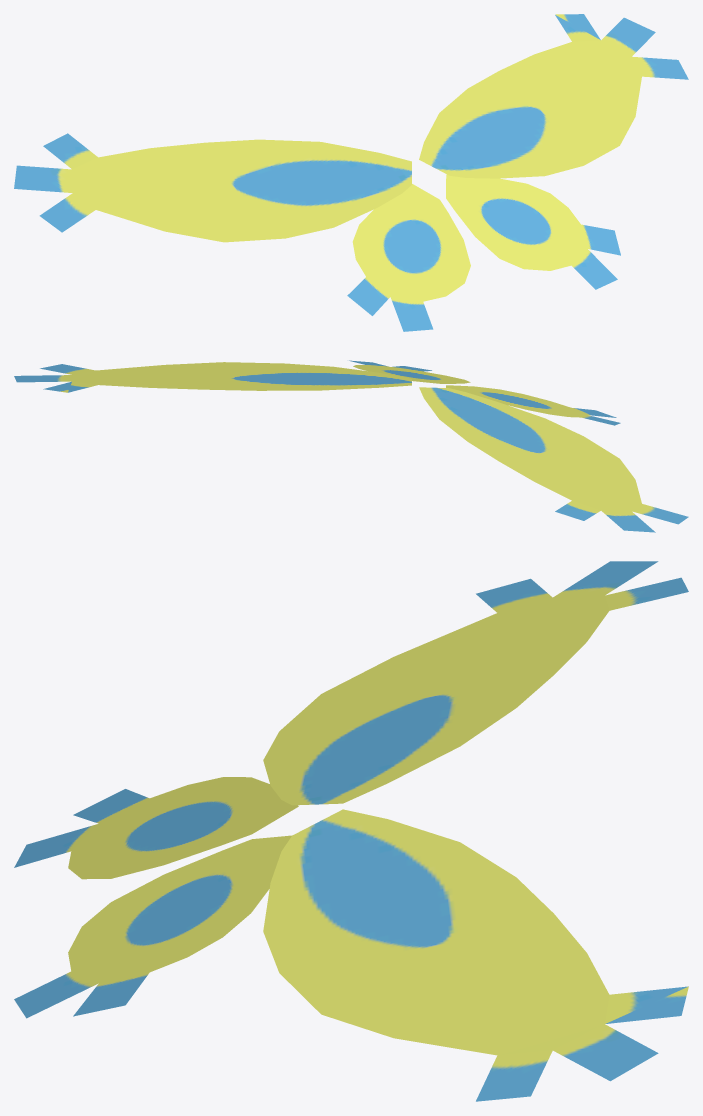
Rendered from BR_Mothim-Shiny01.obj.
3 renders of one model, top to bottom at view 1: azimuth 30°, elevation 25°; view 2: azimuth 150°, elevation 25°; view 3: azimuth 270°, elevation 25°, orthographic. The views are drawn at different scales.
Parts seen in each view (by area): view 1: gamale; view 2: gamale; view 3: gamale.
Part boxes in pixels (left/top/right/bottom): gamale: left=14, top=14, right=688, bottom=331; gamale: left=14, top=360, right=688, bottom=532; gamale: left=14, top=561, right=688, bottom=1101.
Size of the model in its own units: 19.35 by 2.51 by 10.61.
Materials: 1 (1 with a texture image).
